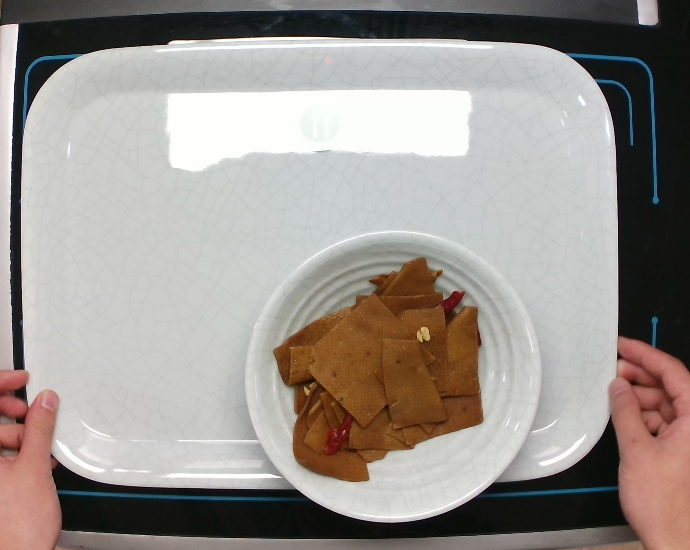JYsf-Xiao_Tang_Wan: (241, 226, 546, 523)
